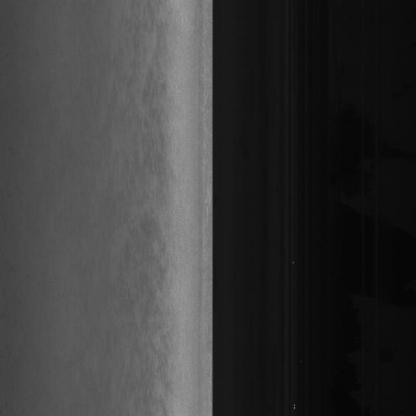silk_spot: (128, 70, 178, 280)
